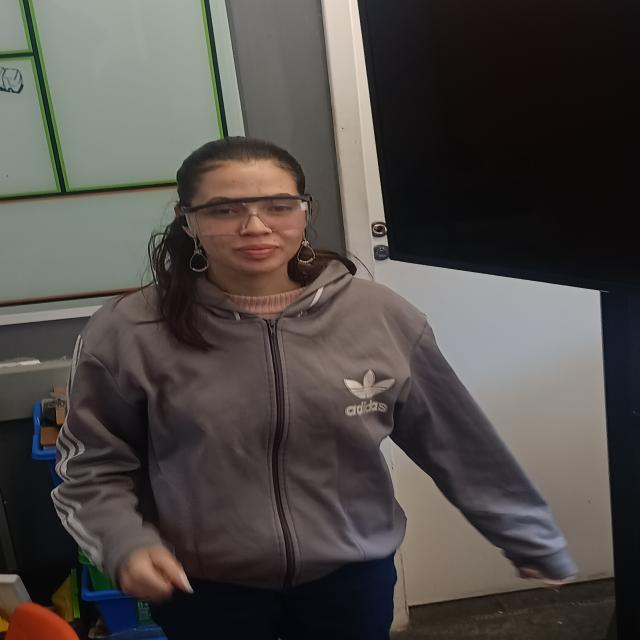oculos-epi: (182, 195, 311, 235)
